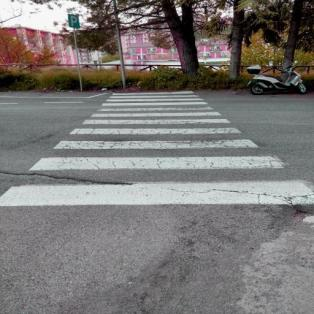Paso de Cebra: (24, 137, 294, 175), (77, 110, 233, 126), (101, 94, 208, 103)
